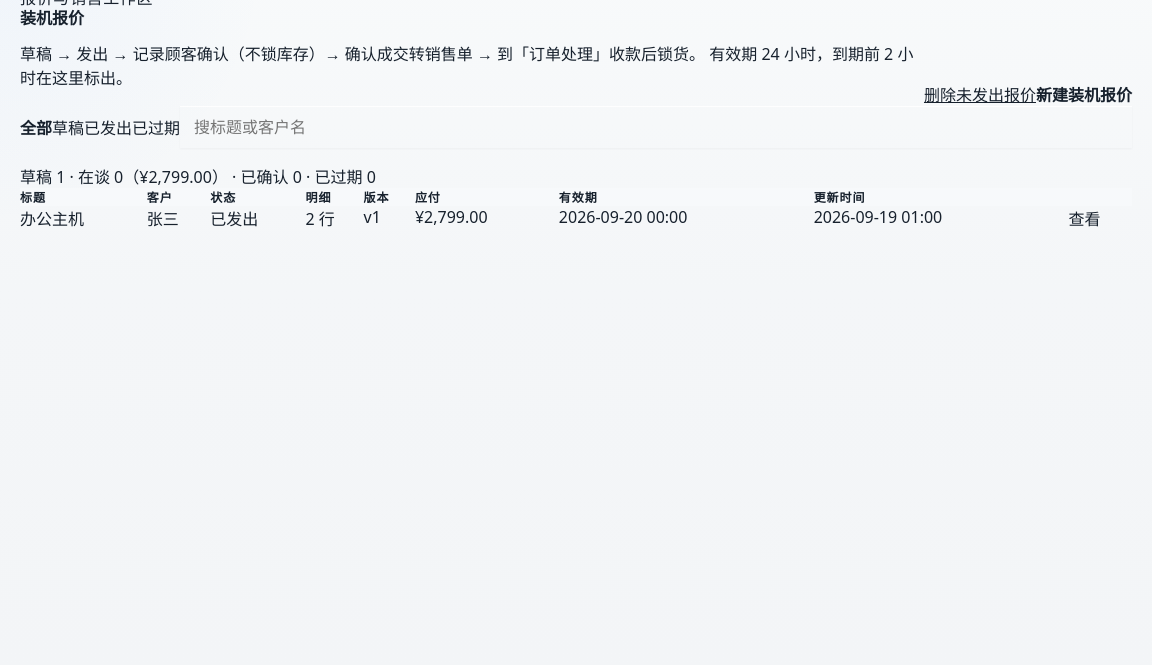
Test: 新建报价 › 打开既有报价改版时只还原服务端两行，不添加模板槽
The width and height of the screenshot is (1152, 665).
Check: the text "办公主机" is shown, box [20, 206, 147, 230]
Step 1. Click the button "查看" → (1084, 218), box [1068, 206, 1100, 230]
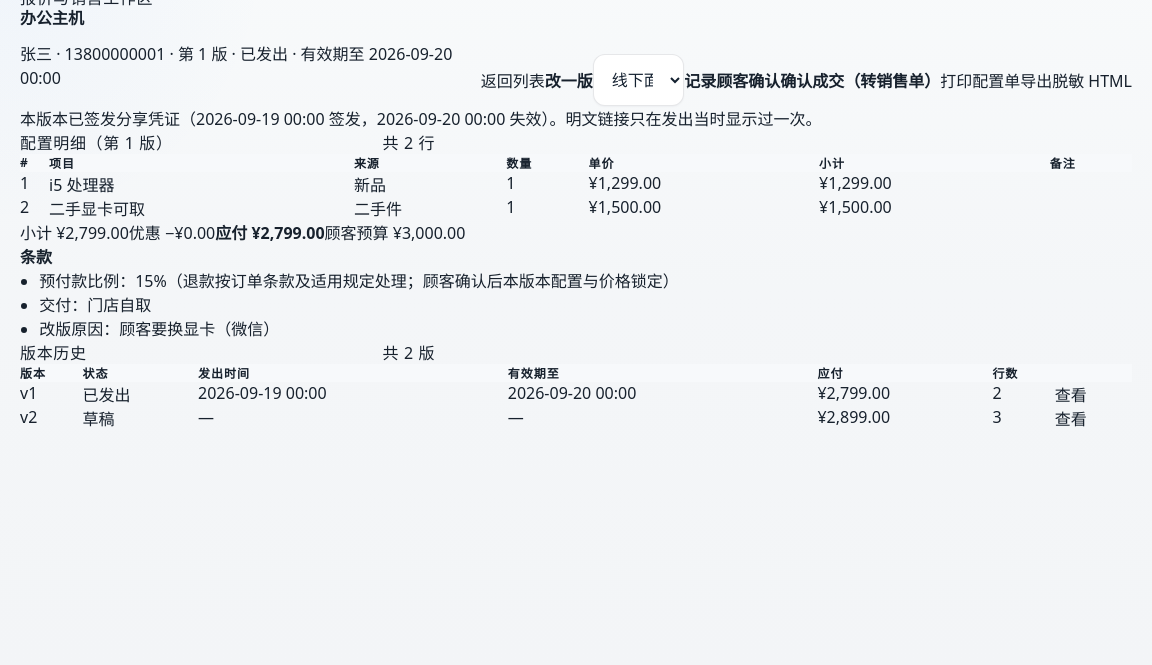
Check: the button "改一版" is shown
Step 2. Click the button "改一版" → (569, 80), box [545, 68, 593, 92]
(page scrolled)
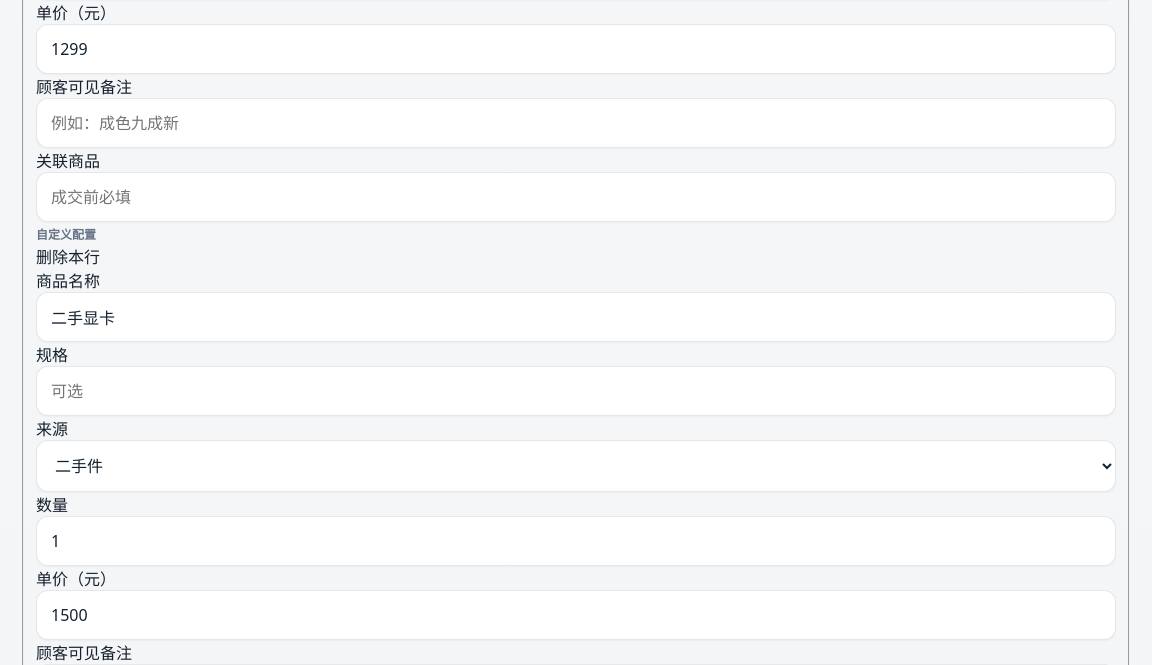
Check: the field named "第 2 行名称" holds "二手显卡", box [36, 292, 1116, 342]
